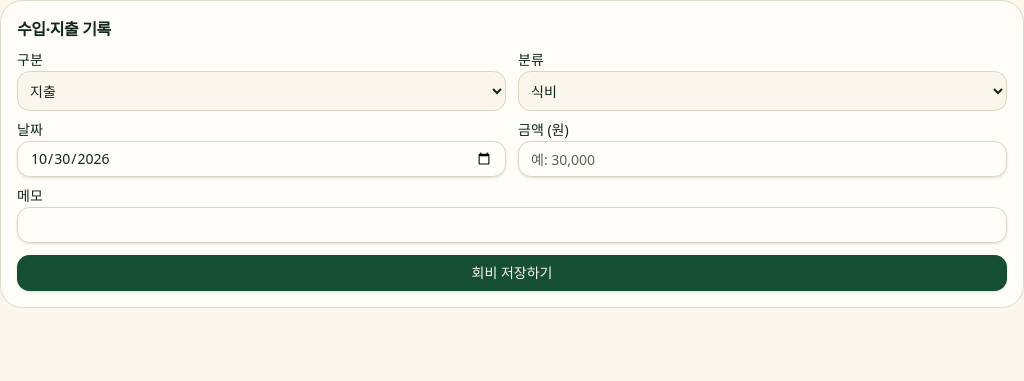
Scenario: 수입·지출 추가 분류 › 저장이 거절되면 입력을 지우거나 성공 표시를 하지 않는다
This screenshot has width=1024, height=381.
Type "10000" into the field labelled "금액 (원)".
click(762, 159); type("10000")  # box [518,141,1007,177]
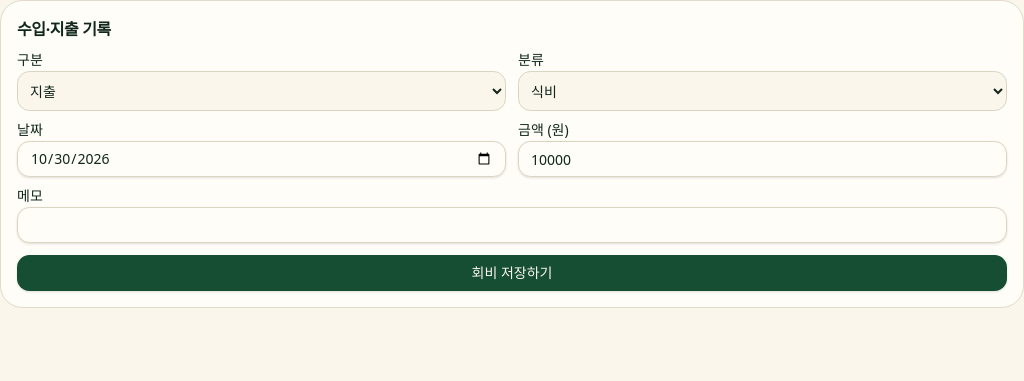
Click the button "회비 저장하기".
click(512, 273)  # box [17,255,1007,291]
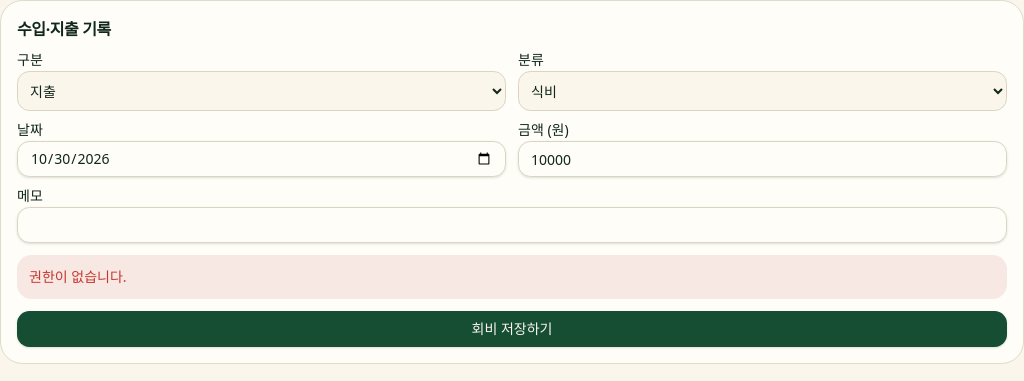
Expected: the message reads "권한이 없습니다.", [29,267,127,286]
